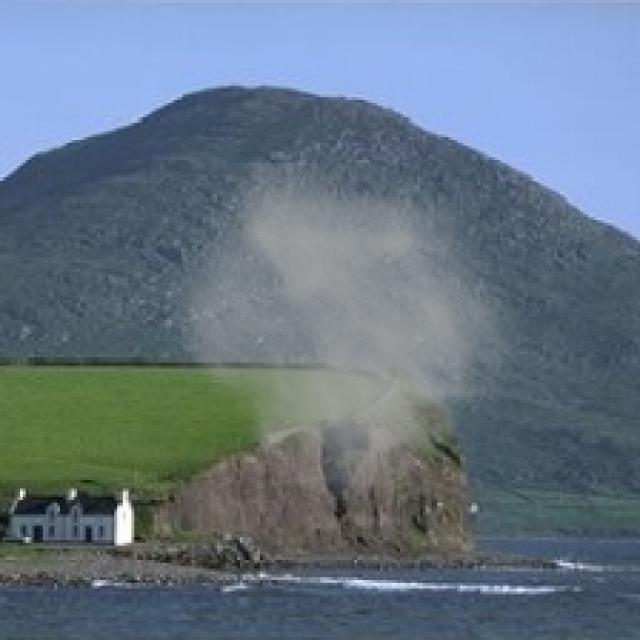Smoke: (154, 163, 532, 540)
